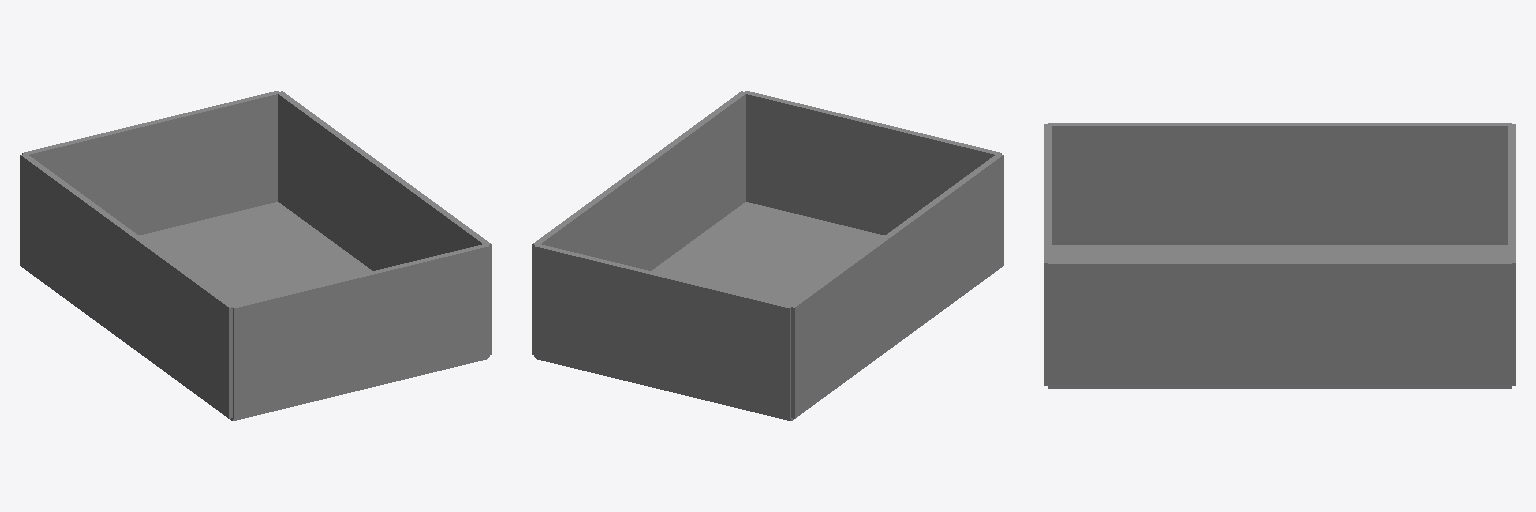
The robot description file, URDF, robot "bin":
<robot name="bin">
  <link name="bin_body">
    <inertial>
      <origin xyz="0 0 0" />
      <!-- Approximate mass of the bin in kg -->
      <mass value="1.0" />
      <!-- Inertia tensor (assuming a simple box-shaped object) -->
      <inertia ixx="0.02" ixy="0.0" ixz="0.0" iyy="0.00" iyz="0.0" izz="0.00" />
    </inertial>
    
    <collision>
      <origin xyz="0 0 -.085" />
      <geometry>
        <box size="0.41 0.58 0.01" />
      </geometry>
    </collision>
    <visual>
      <origin xyz="0 0 -.085" />
      <material name="c">
        <color rgba="0.6 0.6 0.6 1.0" />
      </material>
      <geometry>
        <box size="0.41 0.58 0.01" />
      </geometry>
    </visual>
    
    <collision>
      <origin xyz="0.205 0 0" />
      <geometry>
        <box size="0.01 0.58 0.17" />
      </geometry>
    </collision>
    <visual>
      <origin xyz="0.205 0 0" />
      <material name="c">
        <color rgba="0.6 0.6 0.6 1.0" />
      </material>
      <geometry>
        <box size="0.01 0.58 0.17" />
      </geometry>
    </visual>
    
    <collision>
      <origin xyz="-0.205 0 0" />
      <geometry>
        <box size="0.01 0.58 0.17" />
      </geometry>
    </collision>
    <visual>
      <origin xyz="-0.205 0 0" />
      <material name="c">
        <color rgba="0.6 0.6 0.6 1.0" />
      </material>
      <geometry>
        <box size="0.01 0.58 0.17" />
      </geometry>
    </visual>
    
    <collision>
      <origin xyz="0 0.29 0" />
      <geometry>
        <box size="0.41 0.01 0.17" />
      </geometry>
    </collision>
    <visual>
      <origin xyz="0 0.29 0" />
      <material name="c">
        <color rgba="0.6 0.6 0.6 1.0" />
      </material>
      <geometry>
        <box size="0.41 0.01 0.17" />
      </geometry>
    </visual>
    
    <collision>
      <origin xyz="0 -0.29 0" />
      <geometry>
        <box size="0.41 0.01 0.17" />
      </geometry>
    </collision>
    <visual>
      <origin xyz="0 -0.29 0" />
      <material name="c">
        <color rgba="0.6 0.6 0.6 1.0" />
      </material>
      <geometry>
        <box size="0.41 0.01 0.17" />
      </geometry>
    </visual>
  </link>
</robot>

--- Render facts (derived) ---
Views: 3 orthographic renders of the robot side by side, from view 1: azimuth 30°, elevation 25°; view 2: azimuth 150°, elevation 25°; view 3: azimuth 270°, elevation 25°.
Model bin with 1 links and 0 joints (none), rooted at bin_body, posed all joints at 0.
Links seen in each view (by area): view 1: bin_body; view 2: bin_body; view 3: bin_body.
Boxes of the visible links, x1,y1,x2,y2 form: bin_body: [20, 91, 491, 420]; bin_body: [532, 91, 1003, 420]; bin_body: [1044, 123, 1515, 388].
Size in the robot's own frame: 0.42 by 0.59 by 0.175 metres.
Geometry: primitives only (box / cylinder / sphere), no mesh files.